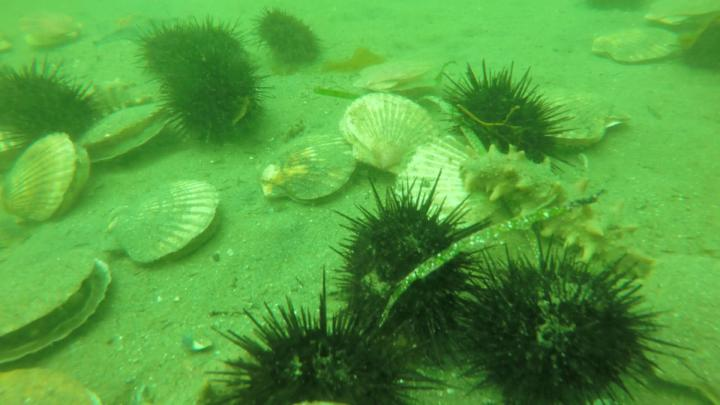echinus: (455, 228, 669, 405), (336, 170, 484, 364), (193, 295, 435, 405), (159, 42, 264, 146), (445, 61, 561, 152), (1, 59, 102, 141), (130, 13, 245, 85), (259, 8, 326, 74)
holothurian: (461, 139, 657, 277), (88, 7, 178, 50)
scallop: (619, 245, 719, 405), (1, 248, 116, 363), (108, 182, 224, 268), (338, 91, 445, 175), (1, 134, 91, 232), (69, 97, 183, 167), (394, 134, 479, 223), (260, 136, 360, 204), (546, 87, 632, 152), (1, 360, 112, 405), (590, 22, 688, 72), (352, 57, 436, 95), (19, 6, 84, 51), (646, 1, 720, 31)
